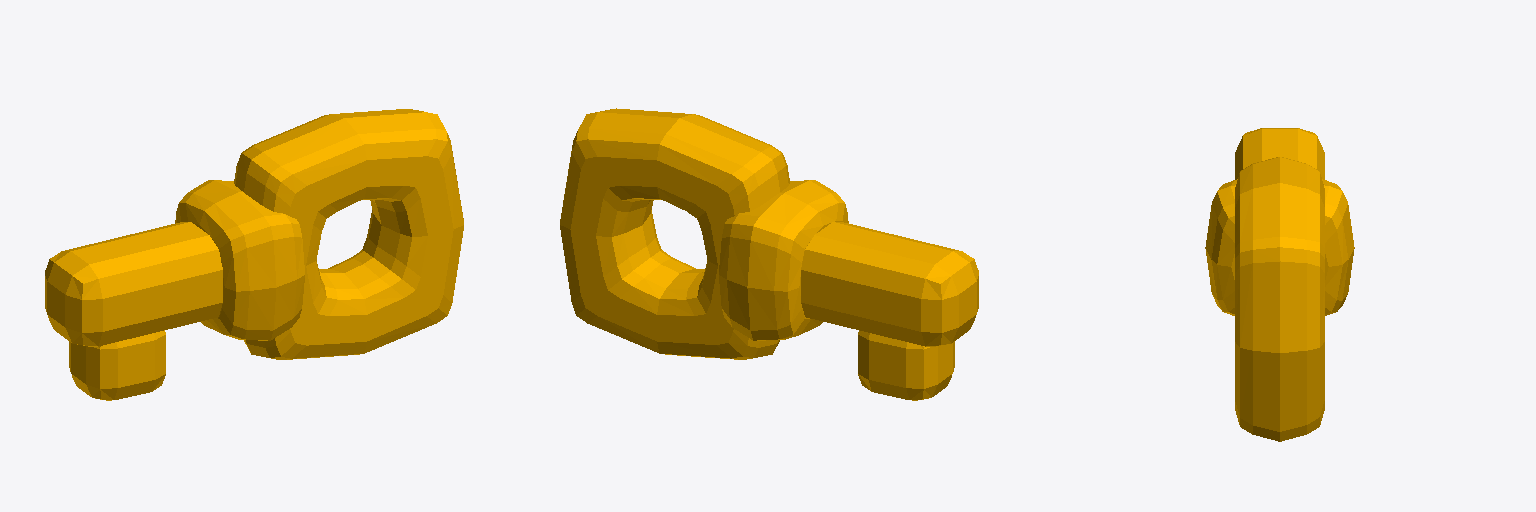
The model's file is key3.obj.
The picture shows the model from 3 angles: view 1: azimuth 30°, elevation 25°; view 2: azimuth 150°, elevation 25°; view 3: azimuth 270°, elevation 25°; orthographic projection.
Parts seen in each view (by area): view 1: key3; view 2: key3; view 3: key3.
Boxes of the visible parts, x1=… form: key3: x1=45, y1=109, x2=463, y2=400; key3: x1=560, y1=108, x2=978, y2=400; key3: x1=1205, y1=128, x2=1354, y2=441.
Bounding box in the file's own units: 0.4778 × 0.266 × 0.1546.